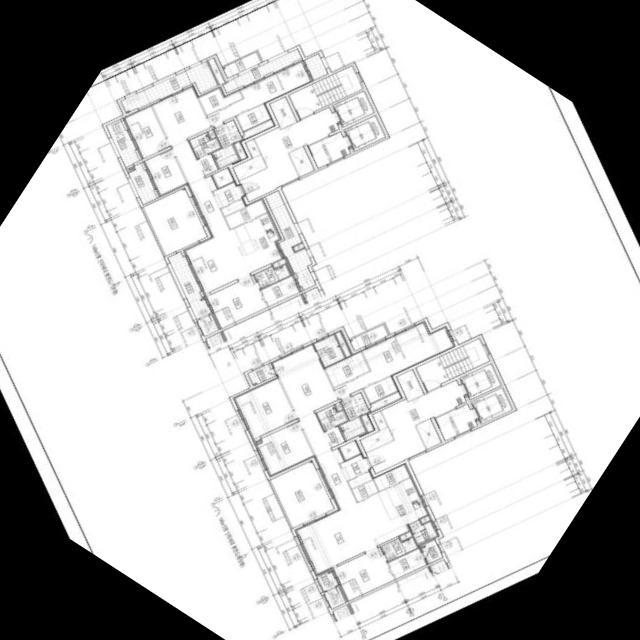background: (0, 0, 640, 640)
space_balconi: (119, 61, 216, 113), (264, 190, 314, 289), (142, 187, 206, 255), (166, 251, 217, 336), (269, 460, 333, 527), (221, 48, 300, 92), (105, 118, 138, 166), (127, 162, 155, 203), (316, 570, 344, 608), (221, 51, 260, 77), (348, 324, 387, 350), (303, 53, 326, 79)
space_bedroom: (333, 320, 453, 398), (206, 59, 311, 126), (232, 377, 295, 439), (204, 274, 266, 328), (331, 547, 393, 601), (254, 421, 312, 476), (122, 104, 168, 158), (142, 148, 185, 196)
space_dressroom: (324, 350, 368, 387), (260, 274, 300, 306), (197, 86, 241, 114), (387, 547, 426, 578), (362, 375, 397, 403), (235, 103, 270, 130)
space_elevator: (331, 90, 373, 127), (458, 362, 500, 399), (343, 114, 384, 151), (470, 386, 511, 423)
space_elevator_hall: (238, 106, 349, 201), (365, 379, 476, 473)
space_front: (339, 453, 371, 488), (212, 181, 244, 215)
space_kitchen: (355, 476, 427, 545), (228, 211, 280, 273)
space_living_room: (270, 343, 375, 575), (151, 84, 248, 294)
space_multipurpose_space: (312, 333, 343, 367), (407, 519, 438, 545)
space_other: (372, 463, 410, 490), (395, 368, 423, 401), (231, 154, 266, 180), (358, 426, 393, 452), (268, 96, 296, 128), (287, 145, 313, 176), (414, 418, 440, 449), (242, 118, 274, 139), (369, 391, 401, 412), (351, 479, 377, 500), (207, 57, 224, 84), (334, 329, 351, 356), (211, 167, 233, 187), (338, 439, 360, 459), (371, 410, 386, 430), (244, 138, 259, 157), (233, 141, 246, 160), (360, 413, 373, 432), (272, 257, 286, 267), (399, 531, 410, 540), (292, 242, 303, 250), (340, 398, 348, 407), (213, 126, 220, 135), (334, 401, 341, 410)
space_outdoor_room: (246, 363, 275, 385), (420, 539, 441, 563)
space_staircase: (414, 337, 488, 390), (287, 65, 361, 117)
space_toilet: (211, 119, 241, 167), (338, 392, 368, 440), (315, 404, 346, 447), (188, 132, 219, 174), (253, 264, 289, 288), (380, 537, 416, 560)
